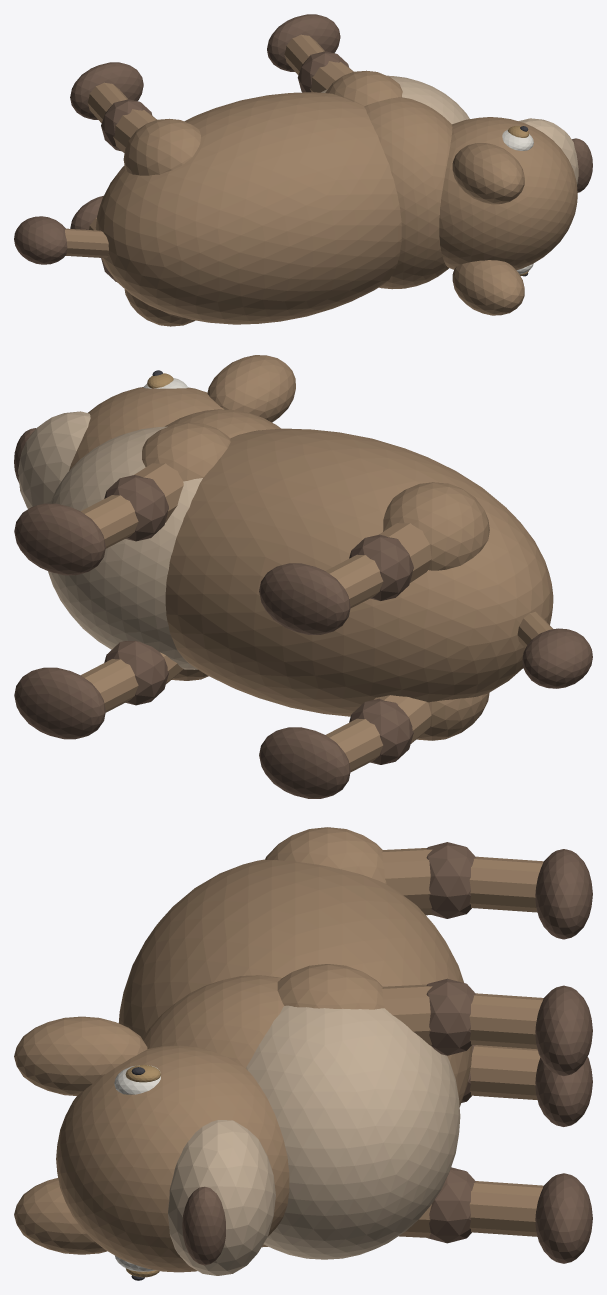
The model's file is bear.glb.
3 renders of one model, top to bottom at view 1: azimuth 30°, elevation 25°; view 2: azimuth 150°, elevation 25°; view 3: azimuth 270°, elevation 25°, orthographic. The views are drawn at different scales.
Parts seen in each view (by area): view 1: world; view 2: world; view 3: world.
Part boxes in pixels (x1,y1,x2,y2): world: (14, 14, 592, 326); world: (14, 355, 592, 798); world: (14, 827, 592, 1280).
Bounding box in the file's own units: 2.62 × 0.96 × 1.79.
